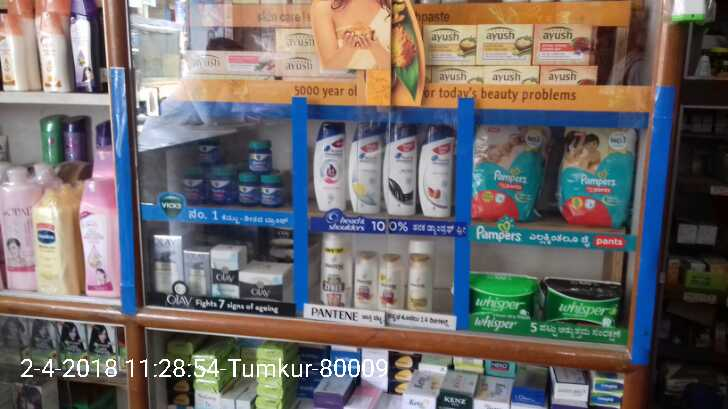vicks: (178, 125, 286, 207)
